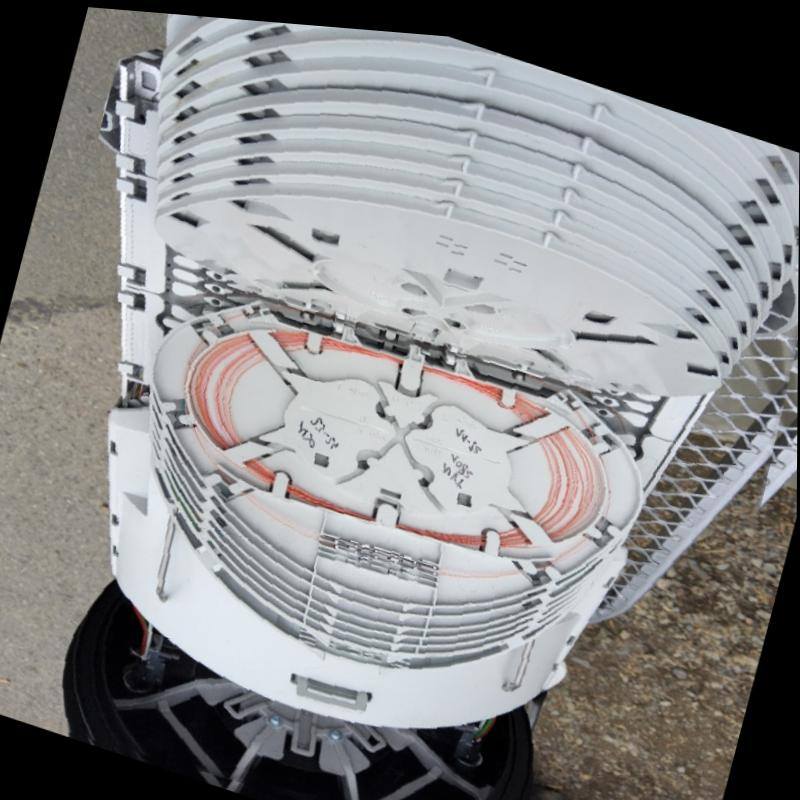NT-Muffen: (65, 11, 799, 800)
